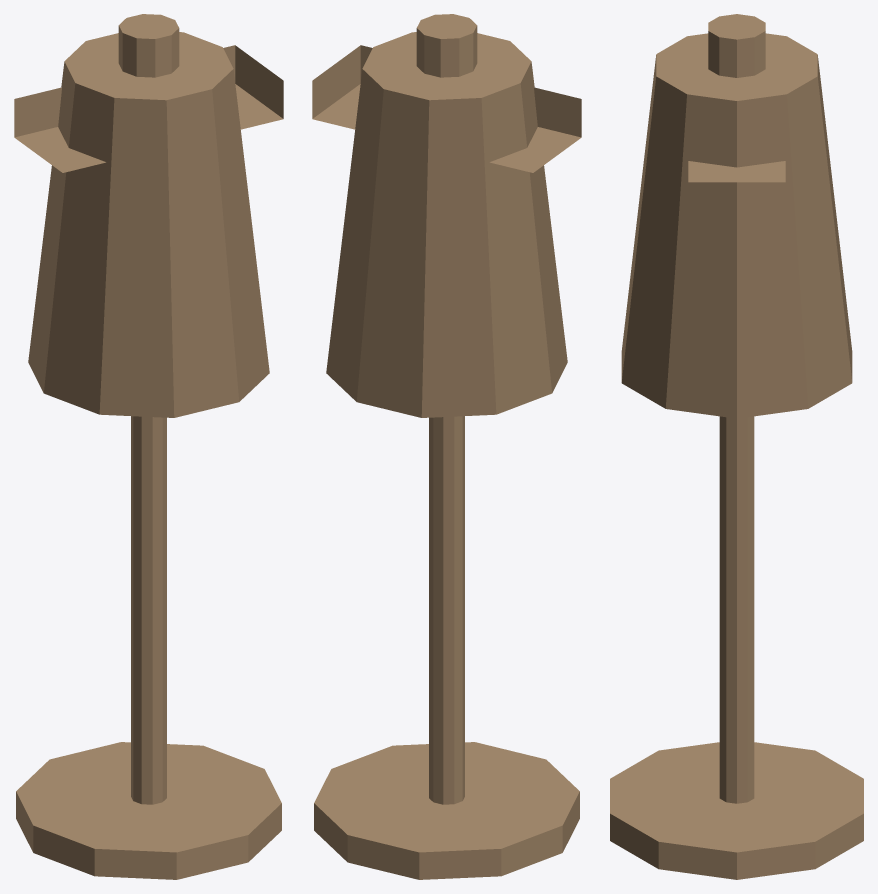
File: Mannequin.gltf
3 views of the same model, side by side, from view 1: azimuth 30°, elevation 25°; view 2: azimuth 150°, elevation 25°; view 3: azimuth 270°, elevation 25° (orthographic).
Visible parts, largest first — view 1: Mannequin; view 2: Mannequin; view 3: Mannequin.
Boxes of the visible parts, x1,y1,x2,y2 form: Mannequin: [14, 14, 283, 879]; Mannequin: [312, 14, 581, 879]; Mannequin: [610, 14, 863, 879].
Size of the model in its own units: 0.44 by 1.45 by 0.4185.
